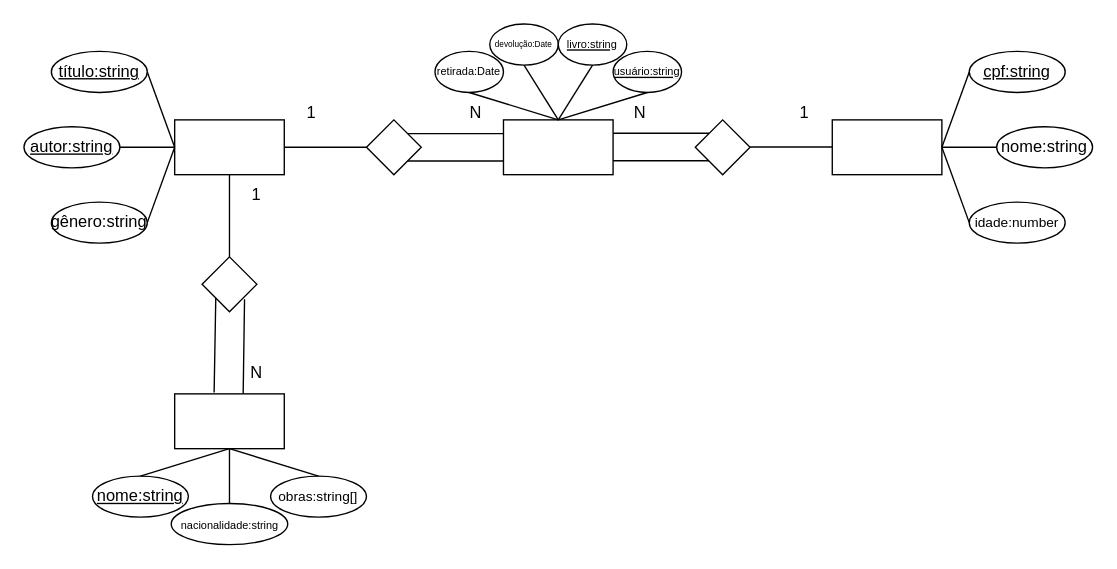
This 1117x569 diagram has some shape labels left out. The shapes that lost their labels are listed below. From the top down, each one's centre as x and y in pixels, then its label:
At pixel 228 147: "Livro".
At pixel 557 147: "empréstimo".
At pixel 886 147: "usuário".
At pixel 228 421: "Autor".
